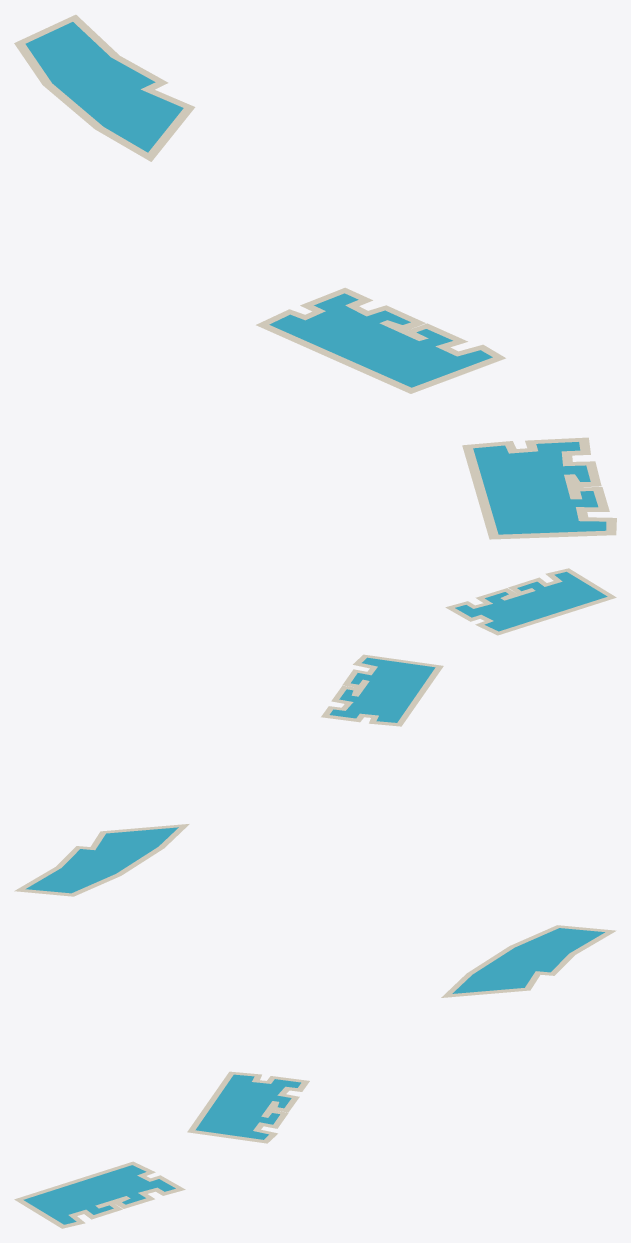
File: pbpool_m23_m11.glb
The picture shows the model from 3 angles, top to bottom: view 1: azimuth 30°, elevation 25°; view 2: azimuth 150°, elevation 25°; view 3: azimuth 330°, elevation 25°; orthographic projection. The views are drawn at different scales.
Visible parts, largest first — view 1: pbpool_m23_m11_lod0; view 2: pbpool_m23_m11_lod0; view 3: pbpool_m23_m11_lod0.
Part boxes in pixels (x1,y1,x2,y2): pbpool_m23_m11_lod0: [14, 14, 616, 539]; pbpool_m23_m11_lod0: [14, 568, 616, 896]; pbpool_m23_m11_lod0: [14, 925, 616, 1228].
Size of what is drawn, in the model's own units: 36.69 by 2.7 by 177.
